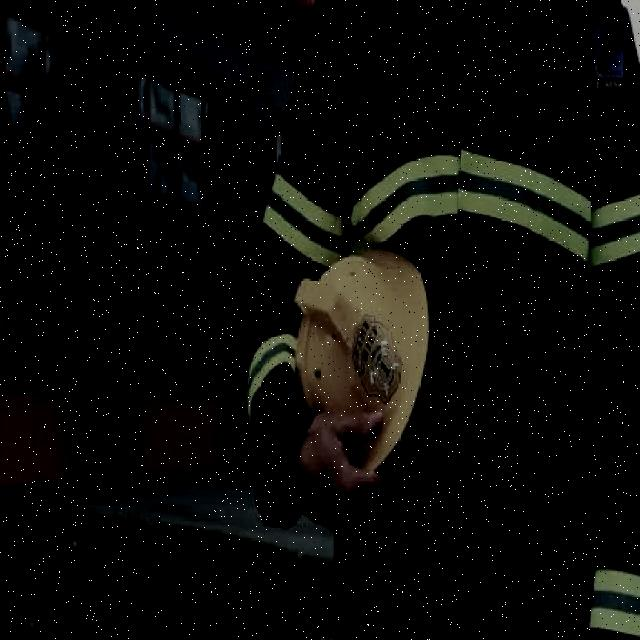Helmet: (292, 244, 430, 476)
Mask: (236, 0, 638, 638)
